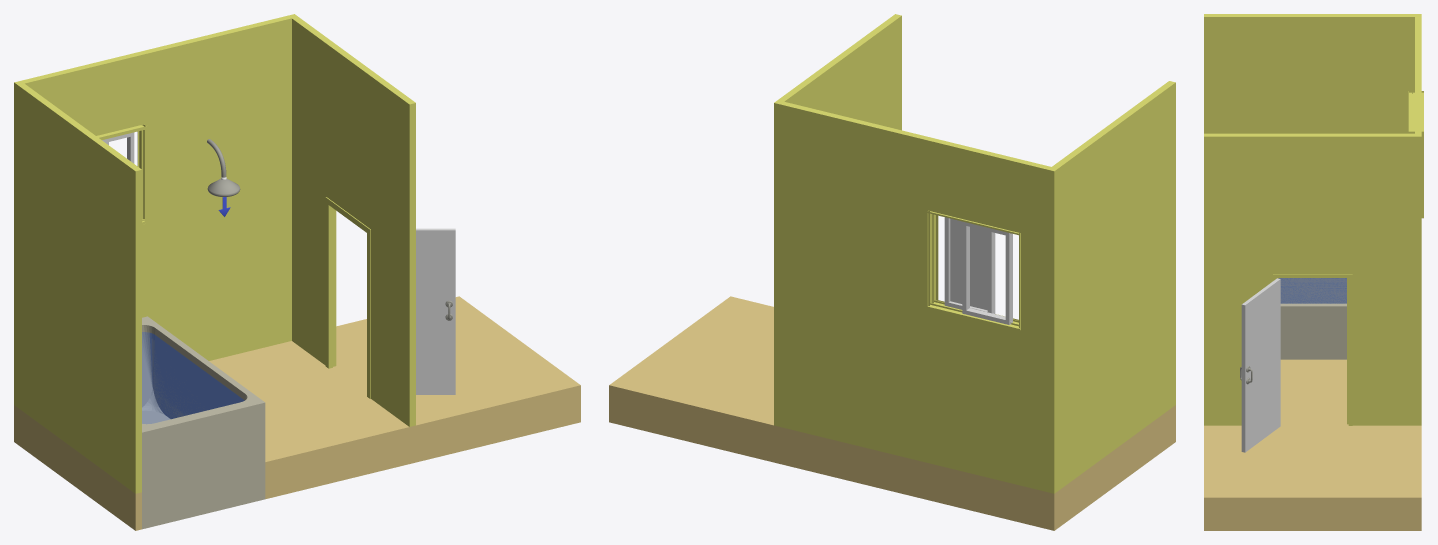
File: Bathroom.glb
3 views of the same model, side by side, from view 1: azimuth 30°, elevation 25°; view 2: azimuth 150°, elevation 25°; view 3: azimuth 270°, elevation 25° (orthographic). The views are drawn at different scales.
Visible parts, largest first — view 1: Cube, Cube.001, Cube.004, Cube.002, Door, Cube.003, DoorFrame, WindowFrame, シャワーヘッド; view 2: Cube.001, Cube, Cube.004, Window.R, WindowFrame, Window.L; view 3: Cube, Cube.004, Door, Cube.002, Cube.003, DoorFrame, Cube.001, WindowFrame.
Part boxes in pixels (bbox=[...]): Cube: bbox=[14, 14, 415, 493]; Cube.001: bbox=[21, 15, 291, 360]; Cube.004: bbox=[14, 296, 580, 530]; Cube.002: bbox=[142, 316, 265, 529]; Door: bbox=[416, 228, 455, 394]; Cube.003: bbox=[142, 332, 244, 423]; DoorFrame: bbox=[325, 197, 370, 398]; WindowFrame: bbox=[96, 124, 147, 225]; シャワーヘッド: bbox=[207, 139, 240, 196]; Cube.001: bbox=[780, 101, 1050, 492]; Cube: bbox=[774, 14, 1175, 493]; Cube.004: bbox=[609, 296, 1175, 530]; Window.R: bbox=[944, 217, 995, 313]; WindowFrame: bbox=[927, 210, 1020, 330]; Window.L: bbox=[962, 221, 1012, 324]; Cube: bbox=[1204, 14, 1421, 425]; Cube.004: bbox=[1204, 359, 1421, 530]; Door: bbox=[1241, 278, 1280, 452]; Cube.002: bbox=[1279, 278, 1346, 359]; Cube.003: bbox=[1279, 278, 1346, 303]; DoorFrame: bbox=[1273, 274, 1352, 425]; Cube.001: bbox=[1415, 17, 1421, 133]; WindowFrame: bbox=[1408, 91, 1423, 218].
Bounding box in the file's own units: 5.78 × 4.46 × 2.76.
